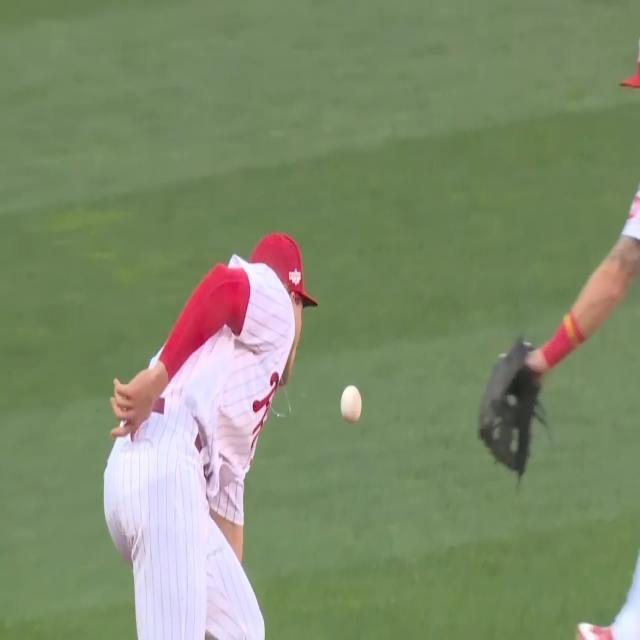ball: (336, 384, 366, 424)
